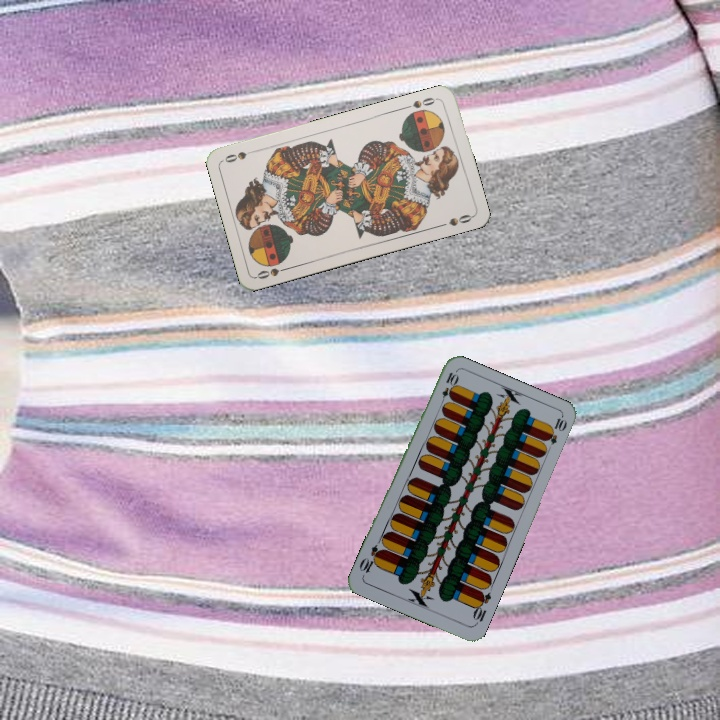E10: (469, 587, 494, 627), (436, 368, 460, 408)
SO: (253, 263, 293, 281), (409, 93, 441, 111)
